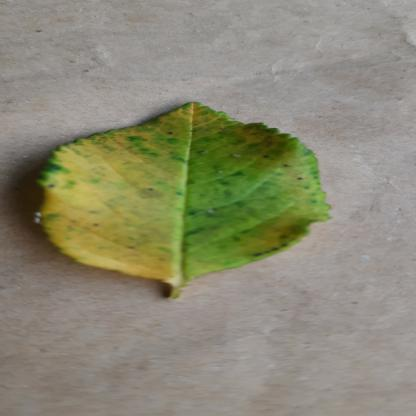black-spot: (25, 99, 344, 286)
